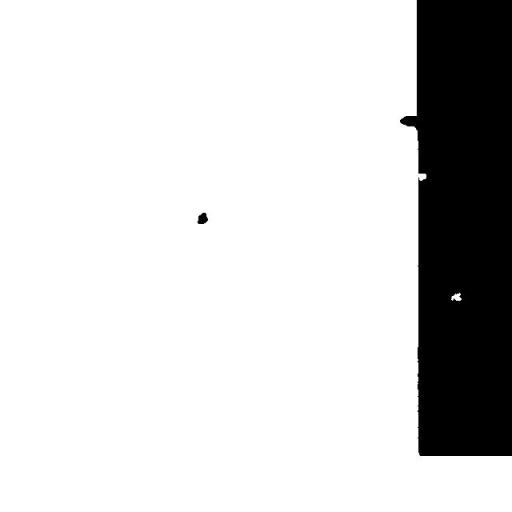copper: (190, 205, 215, 231)
mousebite: (408, 166, 434, 188)
pin-hole: (443, 285, 469, 308)
spur: (392, 108, 430, 138)
